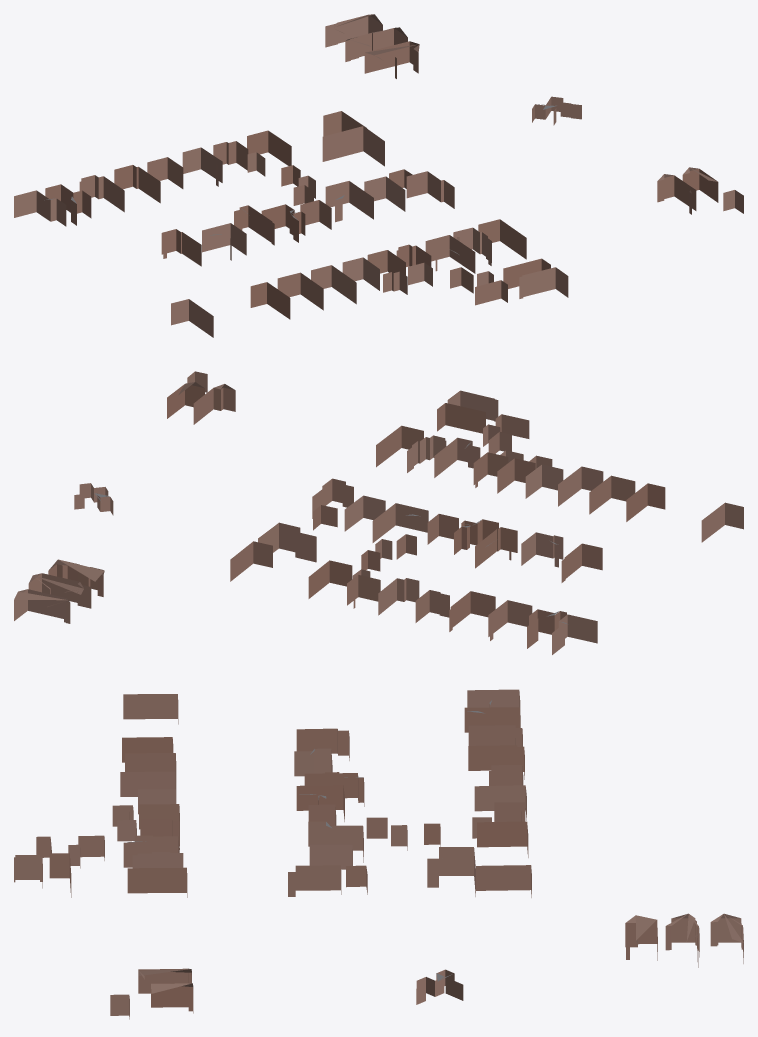
The model's file is c_1642_17827_buildings_residential.glb.
3 views of the same model, one above another, from view 1: azimuth 30°, elevation 25°; view 2: azimuth 150°, elevation 25°; view 3: azimuth 270°, elevation 25° (orthographic). The views are drawn at different scales.
Parts seen in each view (by area): view 1: geometry_0; view 2: geometry_0; view 3: geometry_0.
Boxes of the visible parts, x1=… form: geometry_0: x1=14, y1=14, x2=743, y2=337; geometry_0: x1=14, y1=371, x2=743, y2=654; geometry_0: x1=14, y1=689, x2=743, y2=1019.
Bounding box in the file's own units: 250 × 11.08 × 251.
